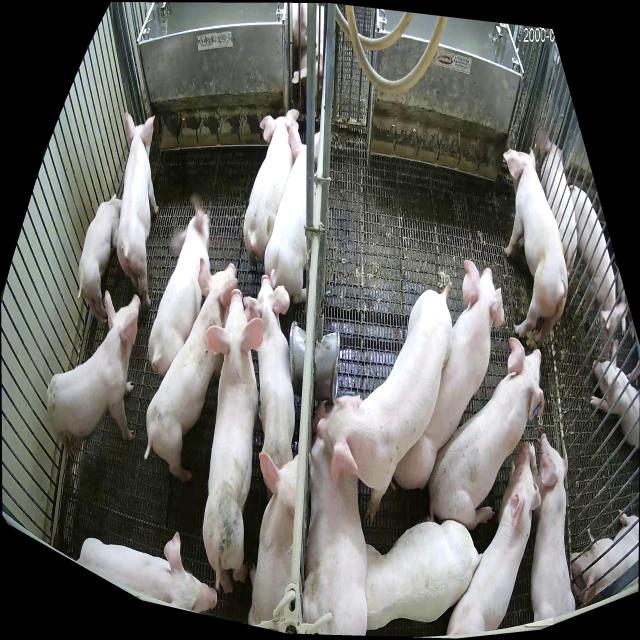pig: (317, 282, 452, 524), (393, 260, 504, 490), (427, 338, 544, 529), (145, 256, 238, 481), (203, 288, 263, 593), (447, 441, 540, 635), (47, 290, 141, 460), (303, 404, 367, 635), (365, 521, 482, 629), (503, 149, 567, 345), (76, 532, 217, 612), (148, 199, 210, 375), (243, 277, 295, 469), (264, 126, 320, 304), (244, 109, 299, 268), (529, 431, 575, 621), (249, 454, 298, 625), (117, 113, 159, 305), (78, 194, 121, 324)
